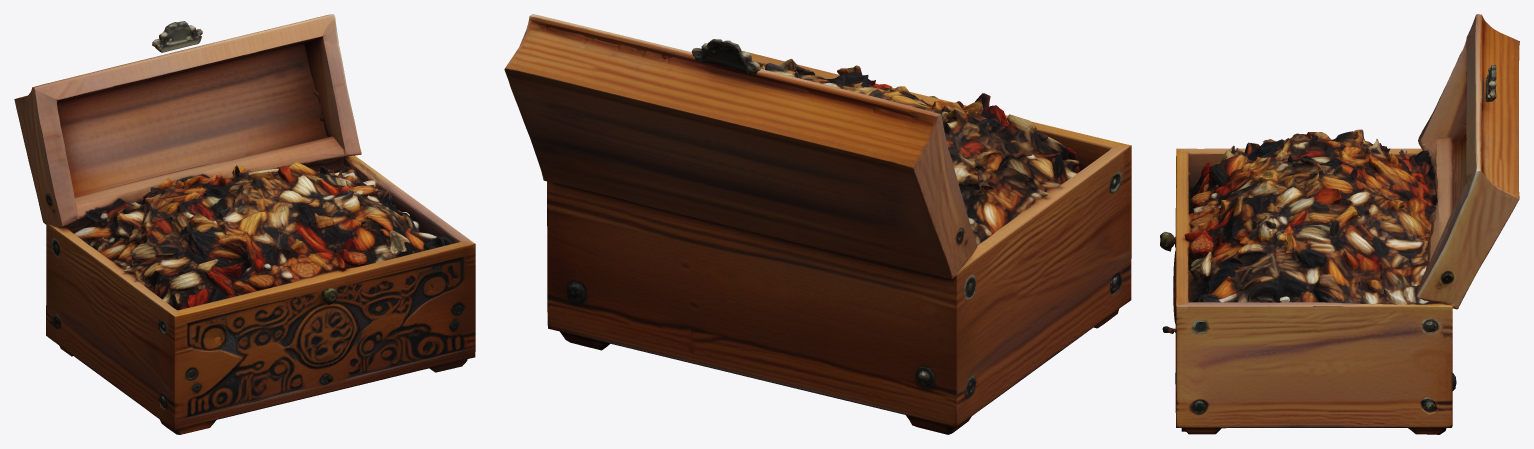
Rendered from wooden-tea-box-rustic.jpeg.glb.
3 views of the same model, side by side, from view 1: azimuth 30°, elevation 25°; view 2: azimuth 150°, elevation 25°; view 3: azimuth 270°, elevation 25° (orthographic). The views are drawn at different scales.
Visible parts, largest first — view 1: world; view 2: world; view 3: world.
Part boxes in pixels (<box>): world: <box>14,14,475,434</box>; world: <box>504,14,1131,434</box>; world: <box>1160,14,1519,434</box>.
Bounding box in the file's own units: 1 × 0.8732 × 0.9664.
1 material, 1 textured.
